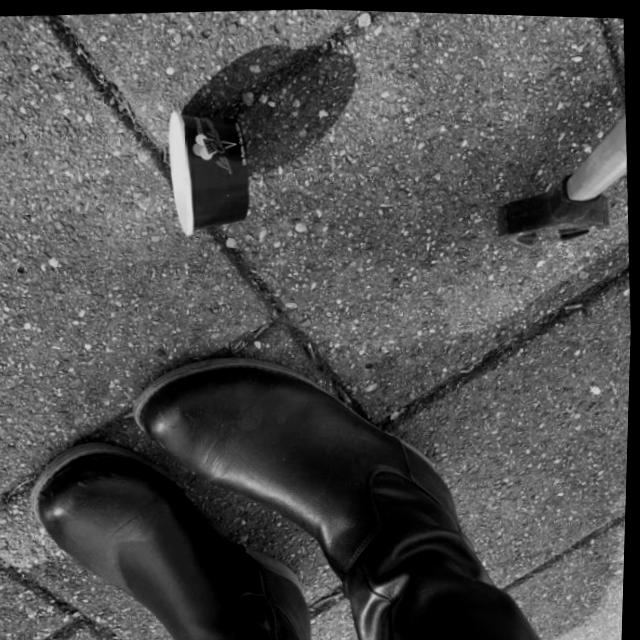Paper: (165, 102, 256, 240)
